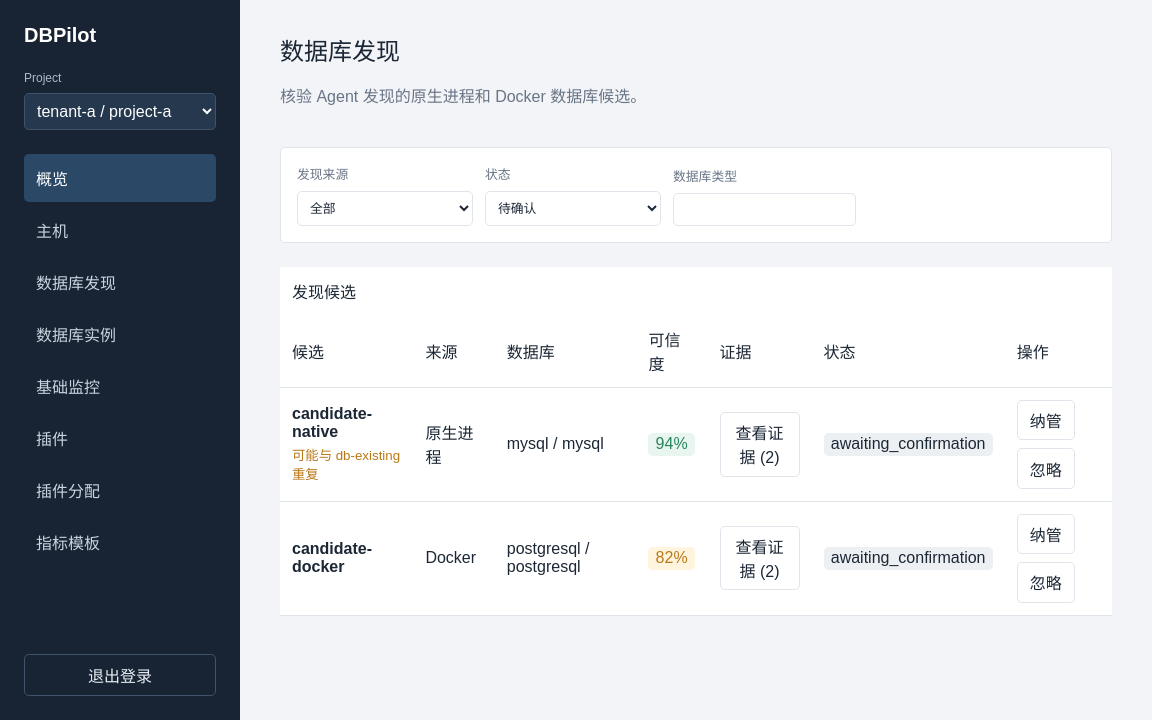
Test case: Discovery candidate workflows › closes project-specific drawers before the new project can reuse their candidate
The width and height of the screenshot is (1152, 720).
Click the button named "纳管 candidate-native" at (1046, 420), box [1017,400,1075,440]
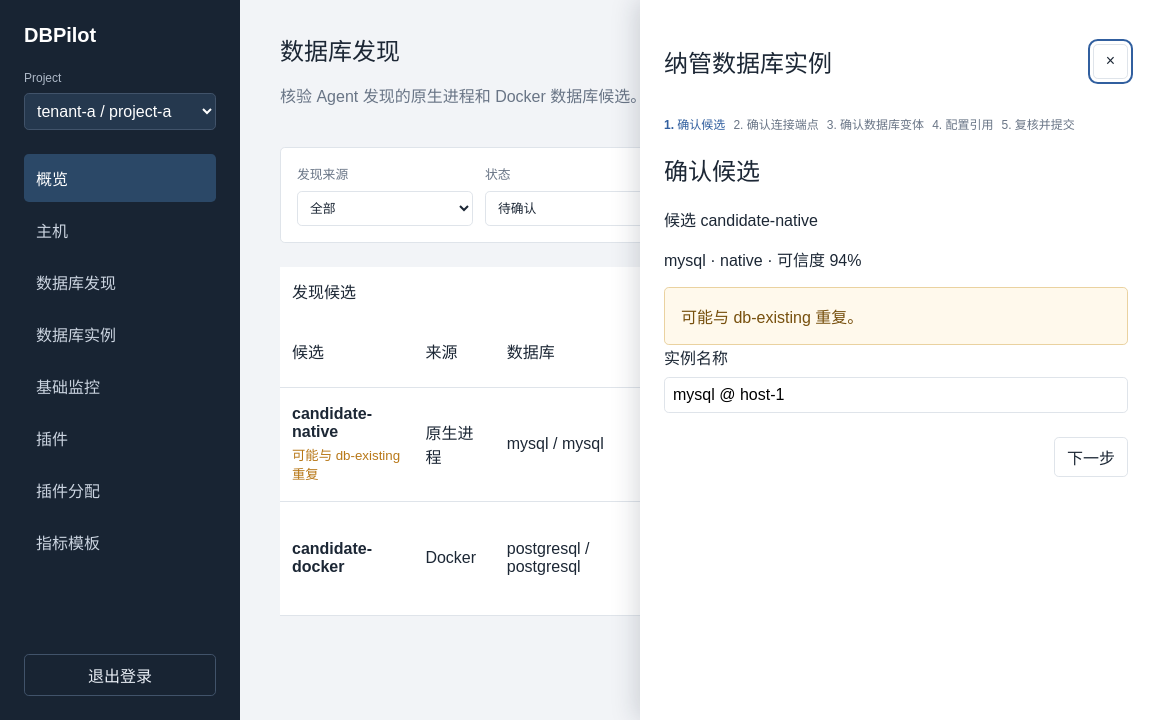
Expected: the dialog "纳管数据库实例" is shown, [640,0,1151,719]
Select "tenant-a / project-b" in the dropdown labelled "Project" at (120, 112), box [24,93,216,130]
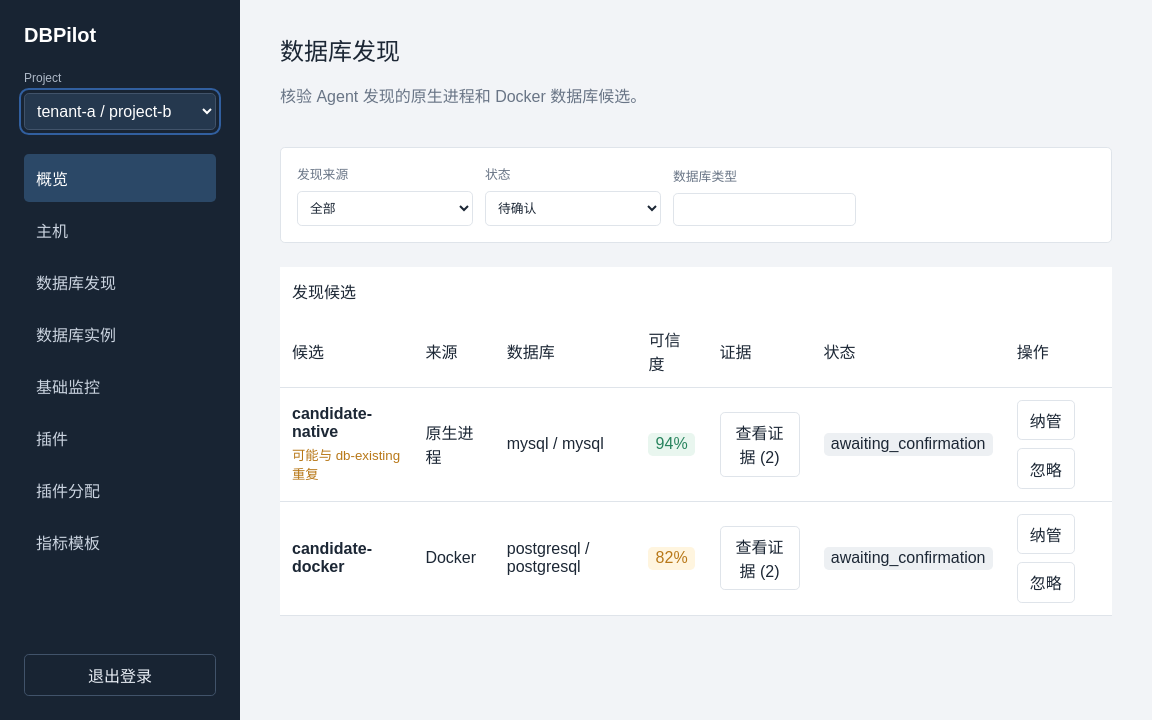
Expected: the heading "纳管数据库实例" is gone
